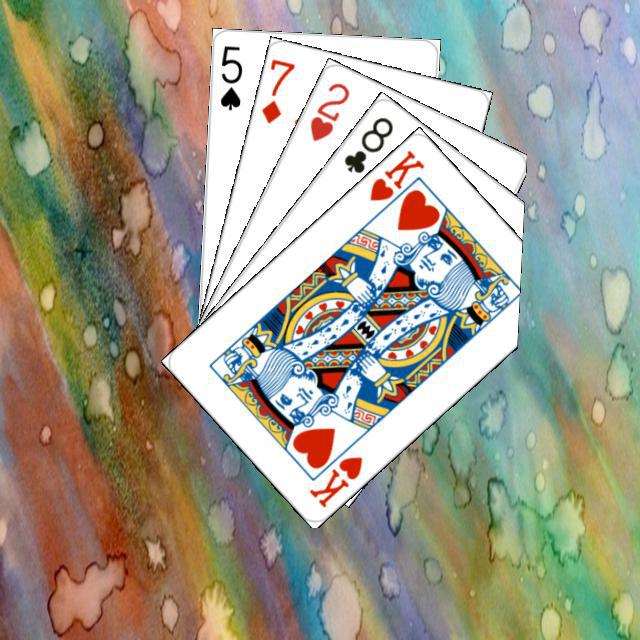2h: (305, 77, 351, 143)
5s: (215, 41, 244, 112)
7d: (256, 54, 297, 126)
8c: (339, 111, 395, 175)
Kh: (364, 145, 426, 219), (304, 451, 365, 510)
